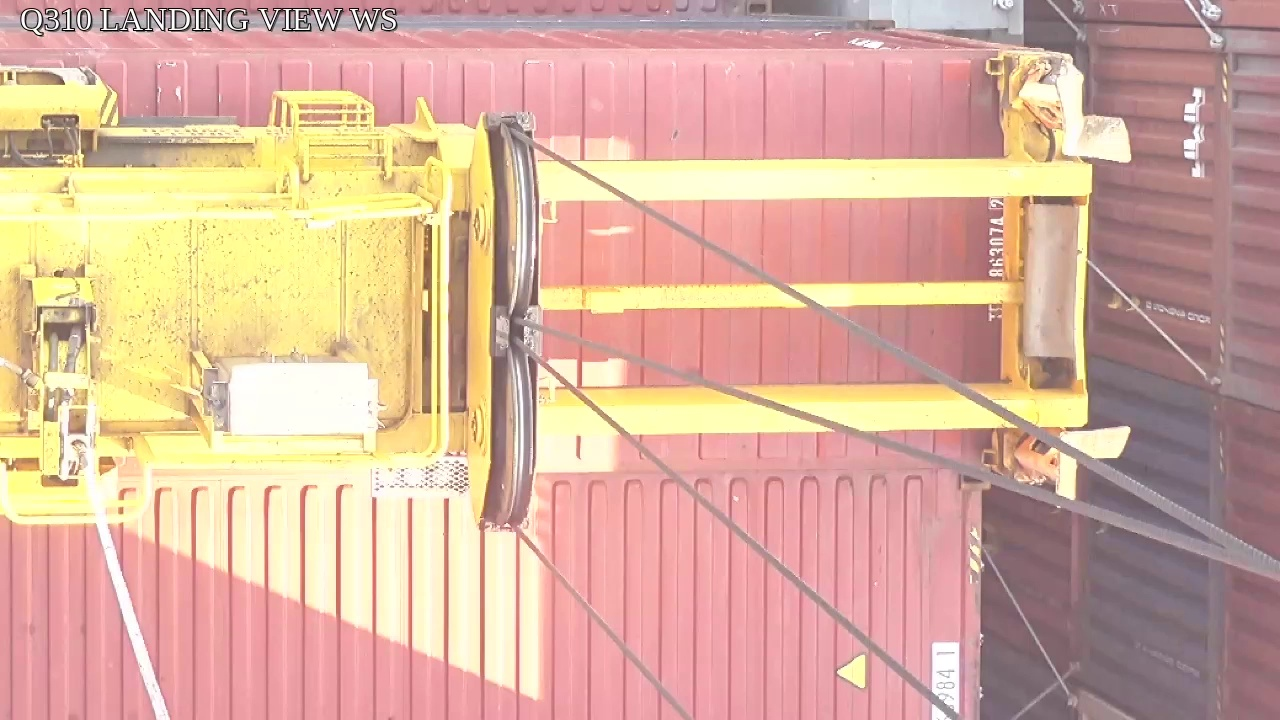right: (463, 114, 545, 532)
